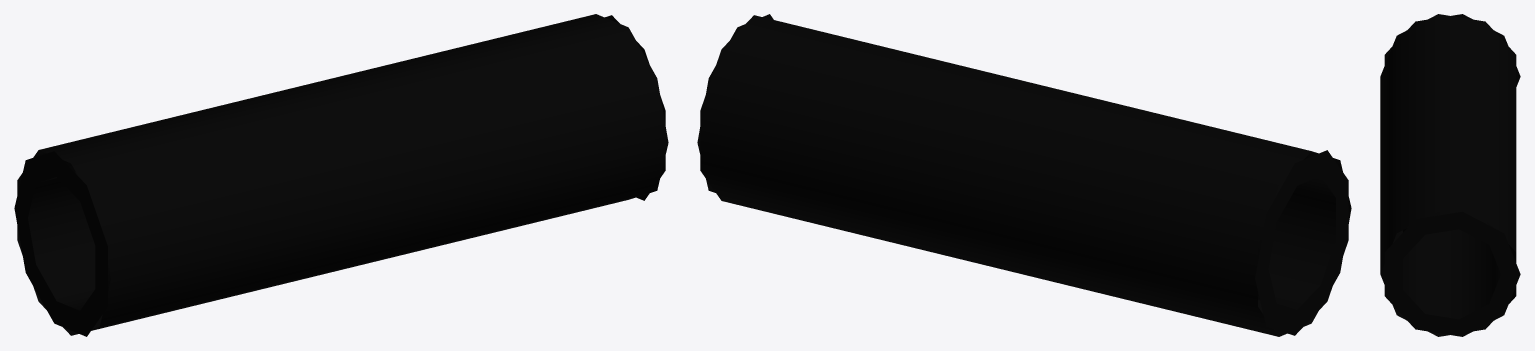
Rendered from SM_log_hollow.fbx.
3 views of the same model, side by side, from view 1: azimuth 30°, elevation 25°; view 2: azimuth 150°, elevation 25°; view 3: azimuth 270°, elevation 25° (orthographic). The views are drawn at different scales.
Visible parts, largest first — view 1: log_hollow; view 2: log_hollow; view 3: log_hollow.
Part boxes in pixels (left/top/right/bottom): log_hollow: left=14, top=14, right=668, bottom=336; log_hollow: left=697, top=14, right=1351, bottom=336; log_hollow: left=1380, top=14, right=1520, bottom=336.
Bounding box in the file's own units: 3 × 0.8863 × 0.9.
